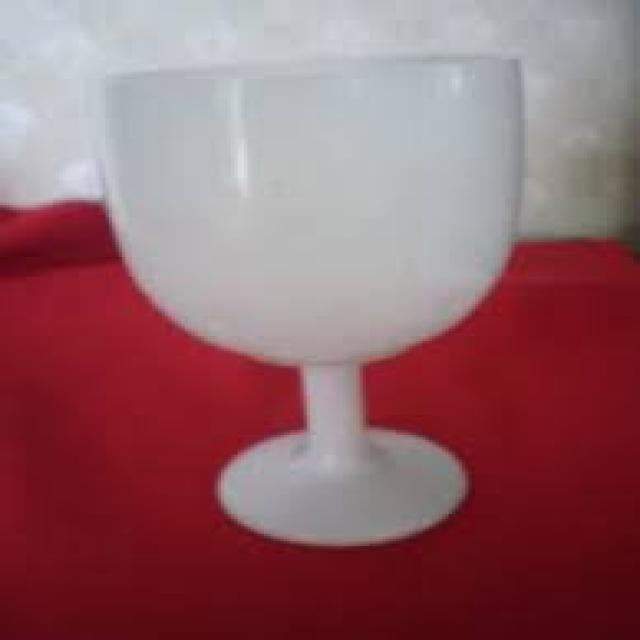glass: (93, 50, 525, 544)
